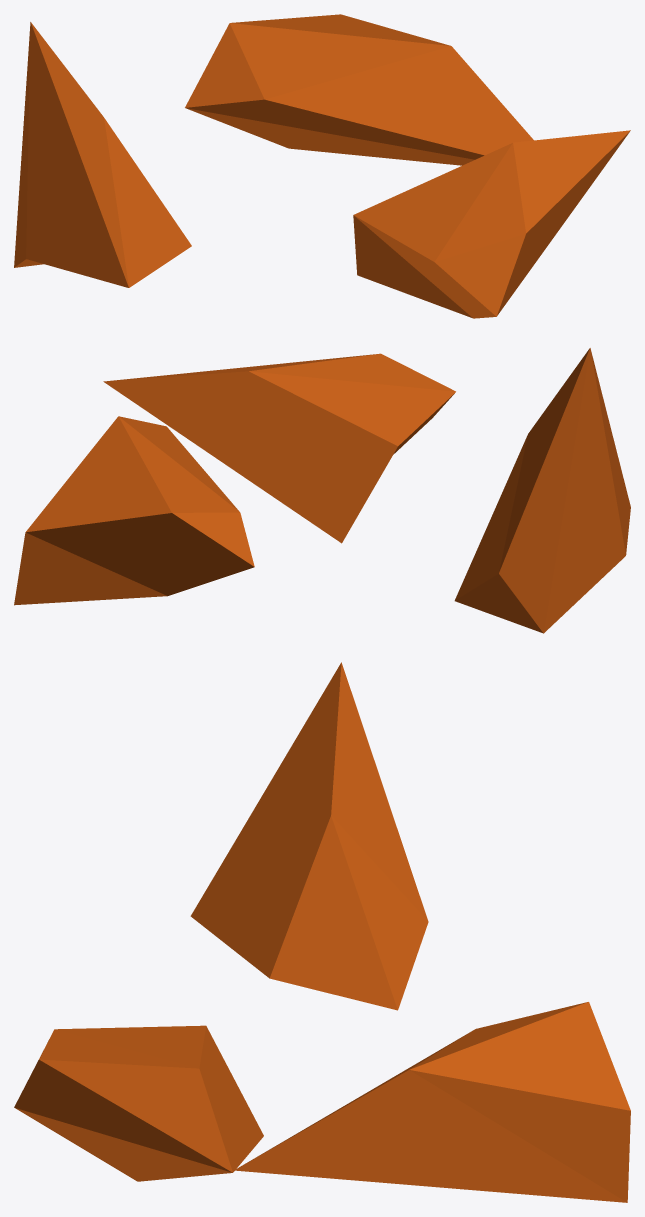
Rendered from Ore.obj.
3 renders of one model, top to bottom at view 1: azimuth 30°, elevation 25°; view 2: azimuth 150°, elevation 25°; view 3: azimuth 270°, elevation 25°, orthographic. The views are drawn at different scales.
Visible parts, largest first — view 1: Cube.001, Cube.002, Cube; view 2: Cube.002, Cube.001, Cube; view 3: Cube.001, Cube, Cube.002.
Part boxes in pixels (<box>): Cube.001: <box>185,14,533,165</box>; Cube.002: <box>353,130,630,318</box>; Cube: <box>14,22,191,287</box>; Cube.002: <box>103,353,455,543</box>; Cube.001: <box>14,416,254,605</box>; Cube: <box>454,348,630,633</box>; Cube.001: <box>235,1002,630,1202</box>; Cube: <box>190,662,428,1010</box>; Cube.002: <box>14,1025,263,1181</box>.
Bounding box in the file's own units: 0.4917 × 0.2577 × 0.4279.
